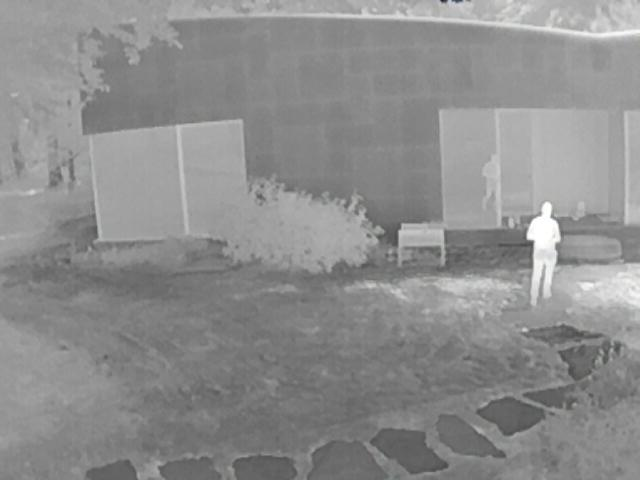person: (527, 202, 560, 307), (479, 152, 499, 209)
